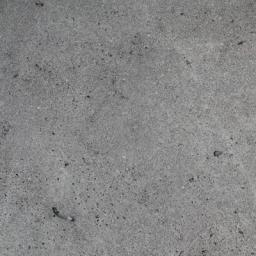FOD: (52, 206, 77, 223)
